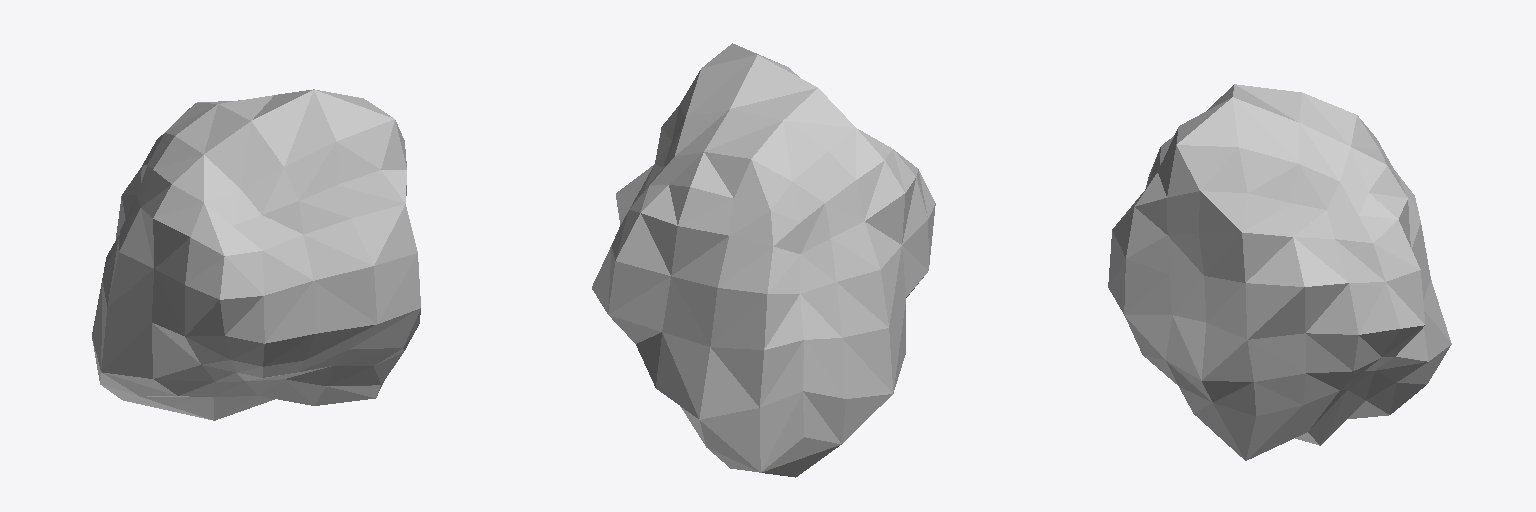
The model's file is rock2.obj.
3 renders of one model, left to right at view 1: azimuth 30°, elevation 25°; view 2: azimuth 150°, elevation 25°; view 3: azimuth 270°, elevation 25°, orthographic.
Visible parts, largest first — view 1: Mesh; view 2: Mesh; view 3: Mesh.
Boxes of the visible parts, x1=… form: Mesh: x1=92, y1=89, x2=420, y2=420; Mesh: x1=592, y1=43, x2=935, y2=477; Mesh: x1=1108, y1=84, x2=1451, y2=460.
Bounding box in the file's own units: 2.44 × 2.92 × 2.59.